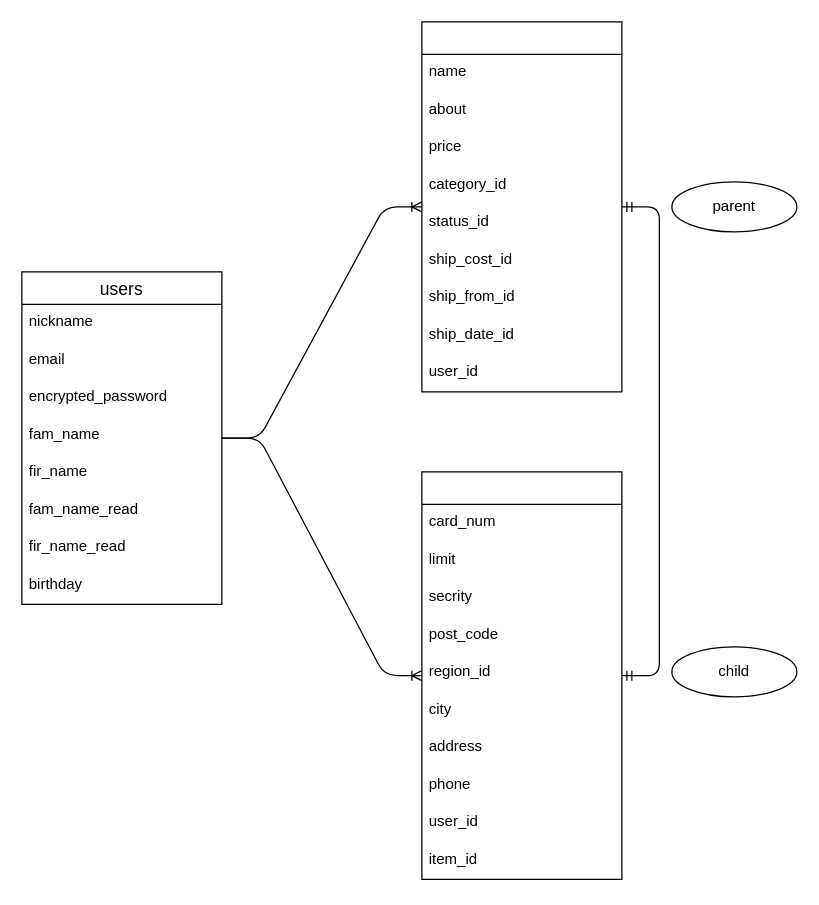
This 819x905 diagram has some shape labels left out. The shapes that lost their labels are listed below. From the top down, each one's box as (x1, y1, x2, y2) in pixels, then its label:
(421, 21, 622, 392): items
(421, 471, 622, 879): orders
